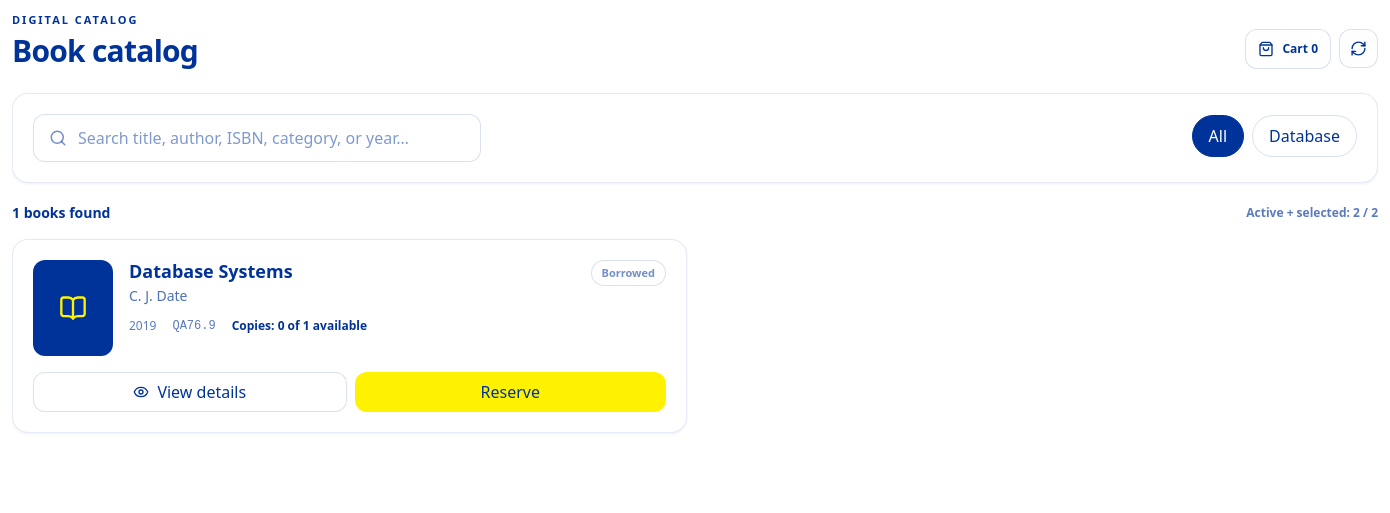
BookCatalog availability refresh › explains the two-book limit before sending another reservation request
Step 1. Click the button "Reserve" → point(510, 392), box x1=354 y1=372 x2=666 y2=412
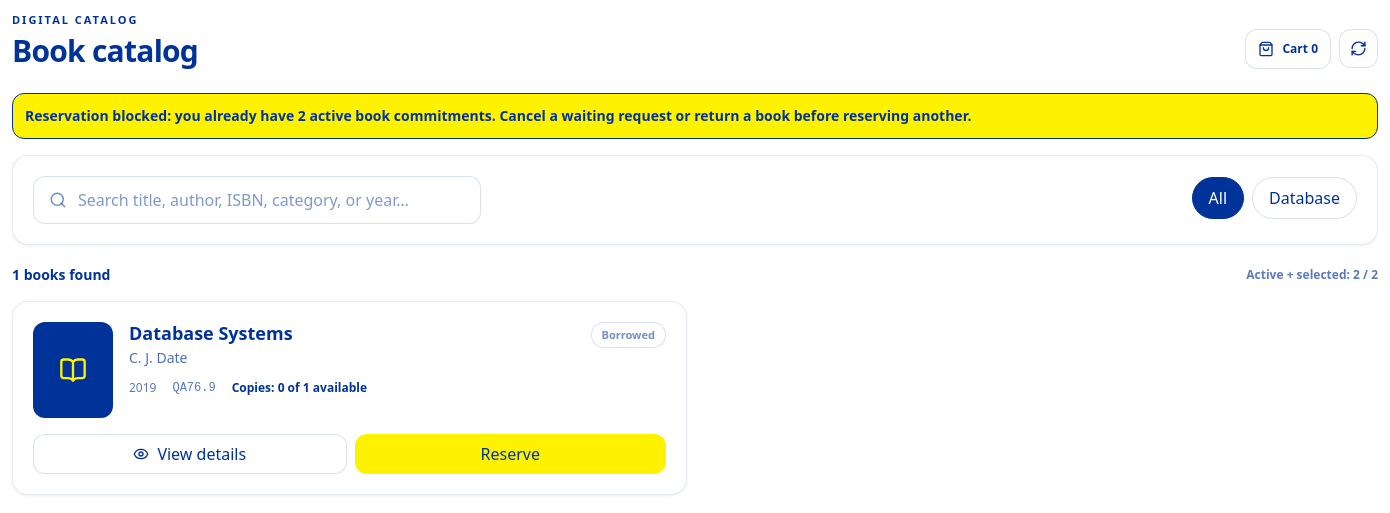
expect the message shows "already have 2 active book commitments": met, box x1=25 y1=106 x2=972 y2=124
